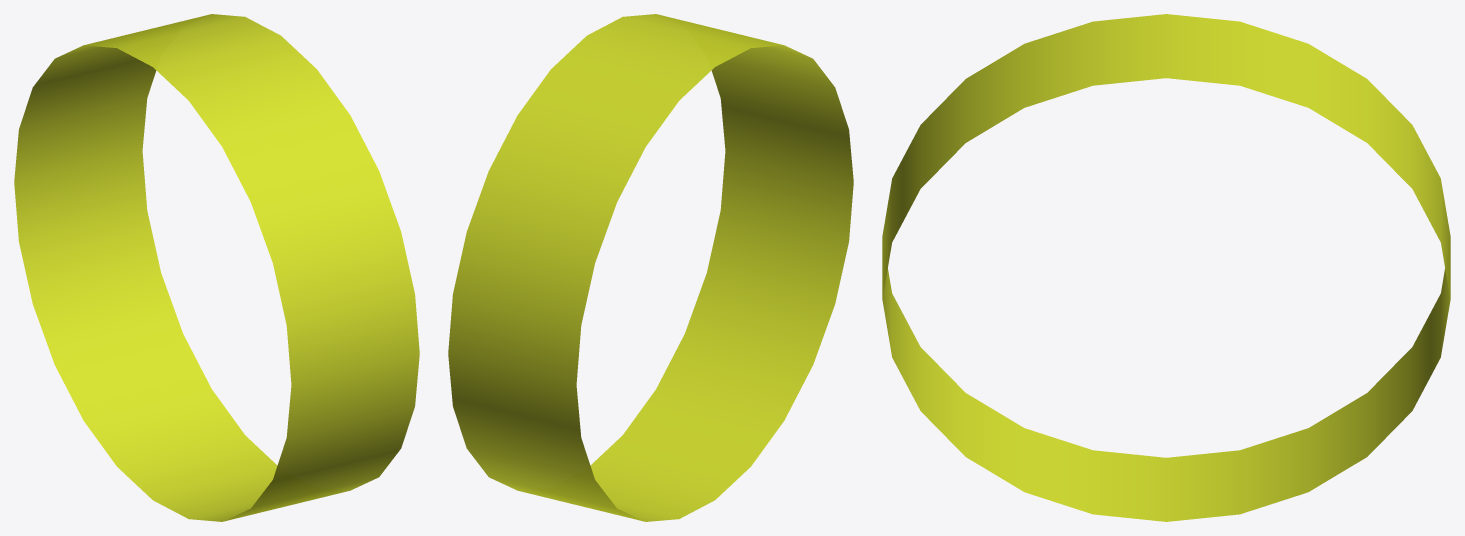
Rendered from original-25.obj.
3 renders of one model, left to right at view 1: azimuth 30°, elevation 25°; view 2: azimuth 150°, elevation 25°; view 3: azimuth 270°, elevation 25°, orthographic. The views are drawn at different scales.
Visible parts, largest first — view 1: mesh12/mesh12-geometry/material_1/component_8#mesh12-geometry; view 2: mesh12/mesh12-geometry/material_1/component_8#mesh12-geometry; view 3: mesh12/mesh12-geometry/material_1/component_8#mesh12-geometry.
Boxes of the visible parts, x1=… form: mesh12/mesh12-geometry/material_1/component_8#mesh12-geometry: x1=14, y1=14, x2=419, y2=521; mesh12/mesh12-geometry/material_1/component_8#mesh12-geometry: x1=448, y1=14, x2=853, y2=521; mesh12/mesh12-geometry/material_1/component_8#mesh12-geometry: x1=882, y1=14, x2=1450, y2=521.
Bounding box in the file's own units: 0.00984 × 0.0317 × 0.0368.
